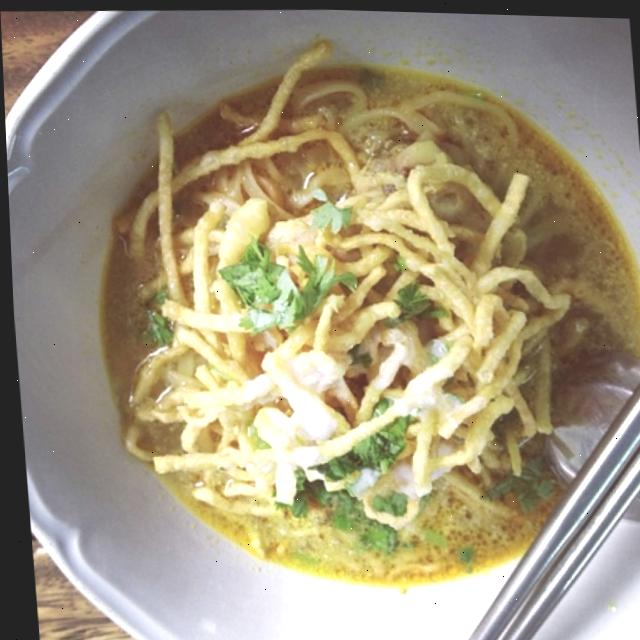面条主食: (58, 39, 640, 618)
